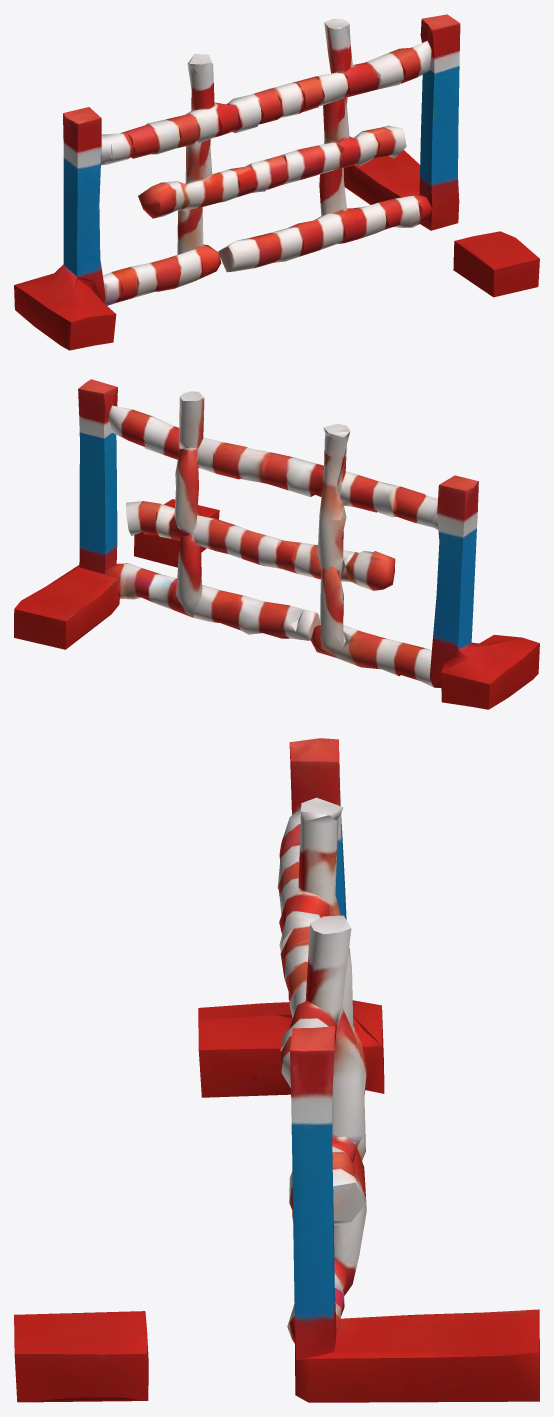
The model's file is agilityHurdleR.glb.
The picture shows the model from 3 angles, top to bottom: view 1: azimuth 30°, elevation 25°; view 2: azimuth 150°, elevation 25°; view 3: azimuth 270°, elevation 25°; orthographic projection. The views are drawn at different scales.
Parts seen in each view (by area): view 1: model; view 2: model; view 3: model.
Part boxes in pixels (bbox=[...]): model: bbox=[14, 14, 539, 350]; model: bbox=[14, 379, 539, 709]; model: bbox=[14, 738, 539, 1402].
Size of the model in its own units: 1.9 by 0.9694 by 1.17.
Materials: 1 (1 with a texture image).
